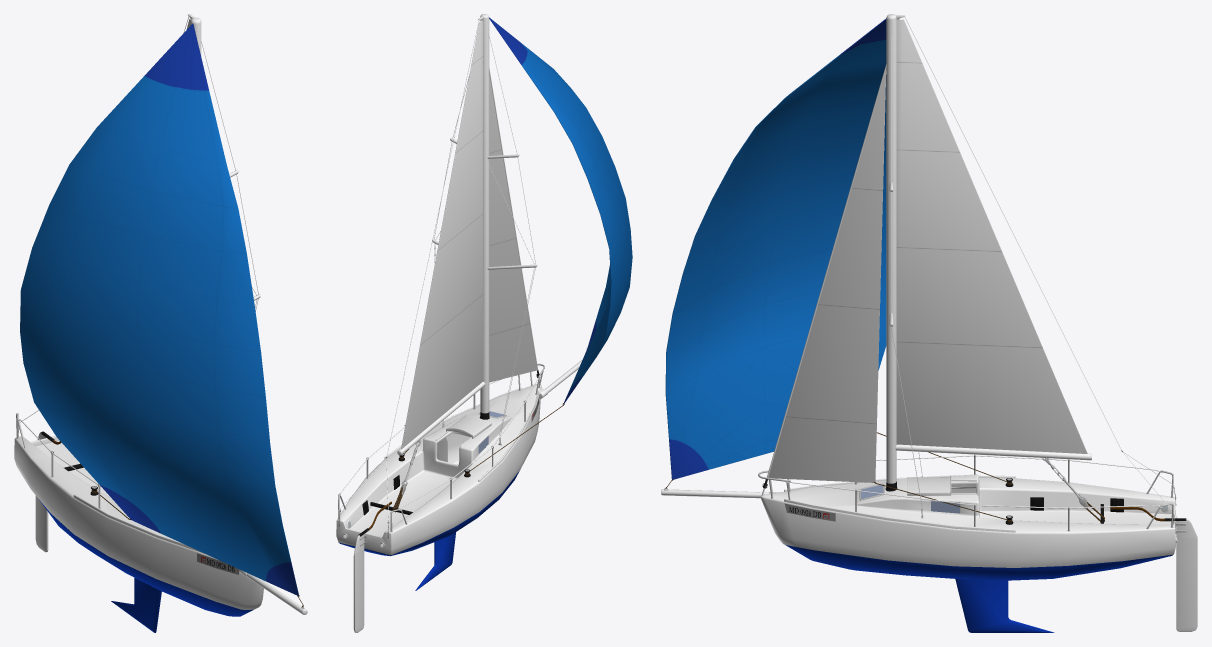
File: Sailboat_2.fbx
The picture shows the model from 3 angles, left to right: view 1: azimuth 30°, elevation 25°; view 2: azimuth 150°, elevation 25°; view 3: azimuth 270°, elevation 25°; orthographic projection. The views are drawn at different scales.
Visible parts, largest first — view 1: J-80; view 2: J-80; view 3: J-80.
Part boxes in pixels (x1,y1,x2,y2): J-80: [14, 14, 307, 632]; J-80: [336, 14, 632, 632]; J-80: [661, 14, 1197, 632].
Size of the model in its own units: 379 by 1015 by 799.
